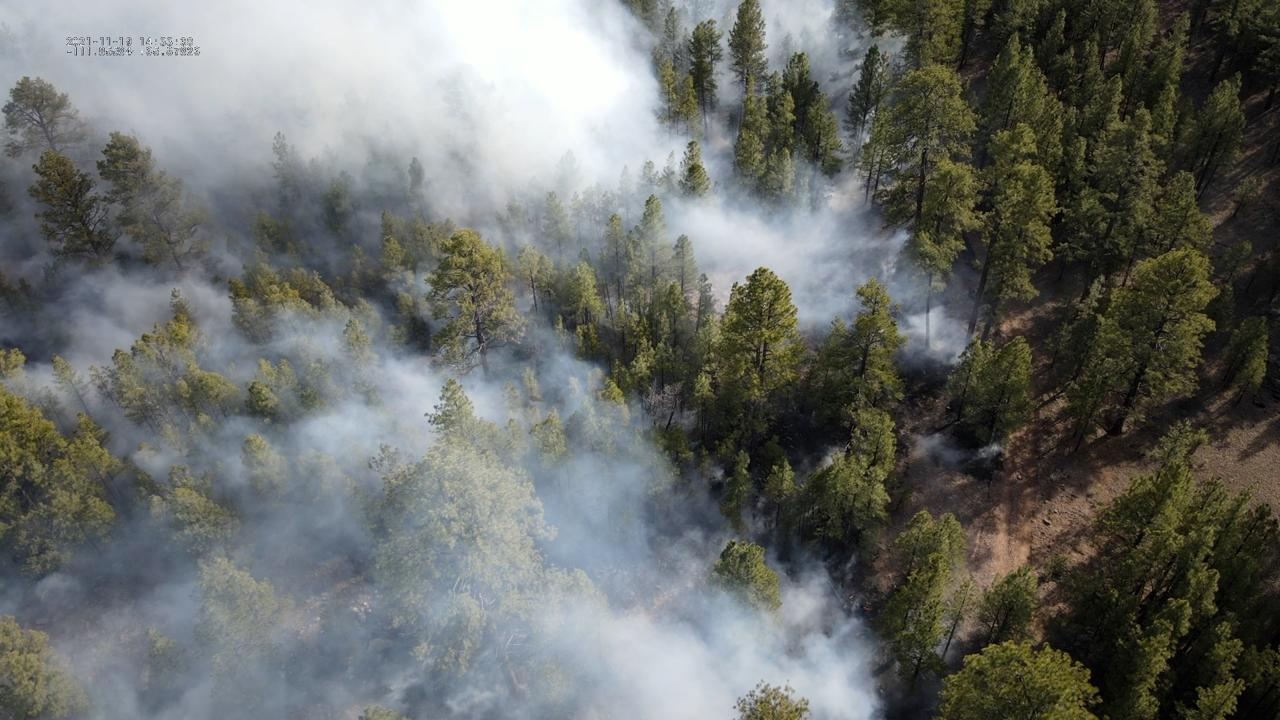smoke: (0, 0, 977, 720)
